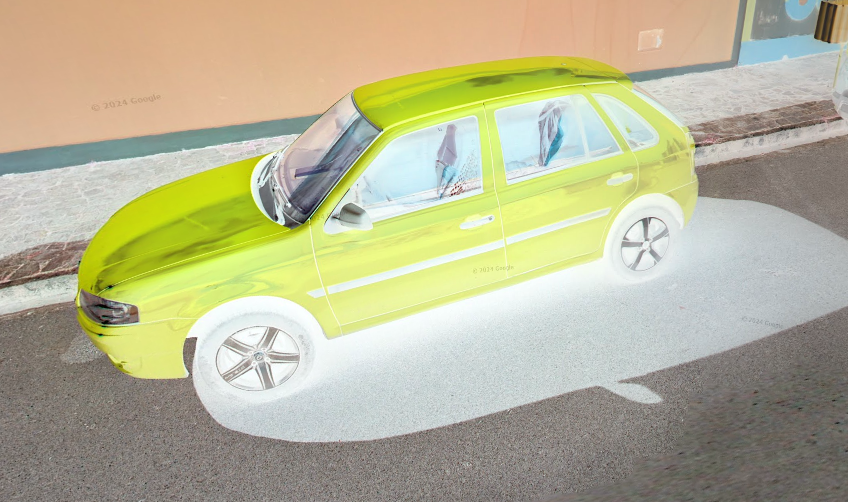car: (74, 51, 702, 407)
